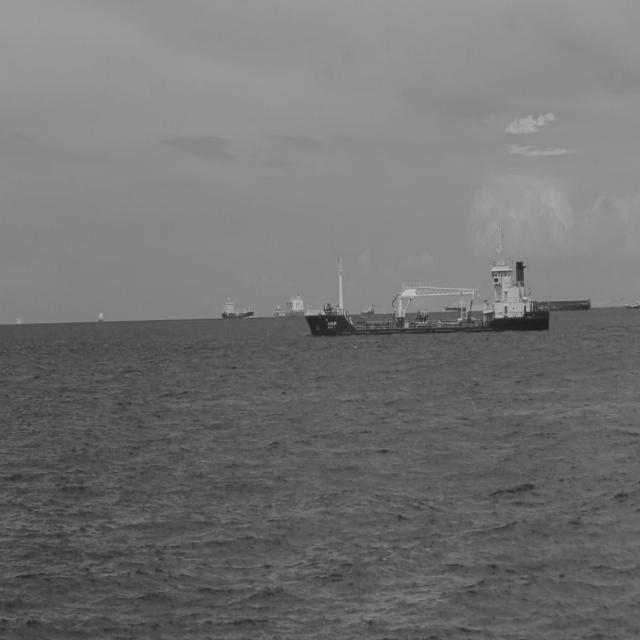ship: (304, 210, 554, 344), (270, 284, 306, 325), (219, 288, 258, 325)
